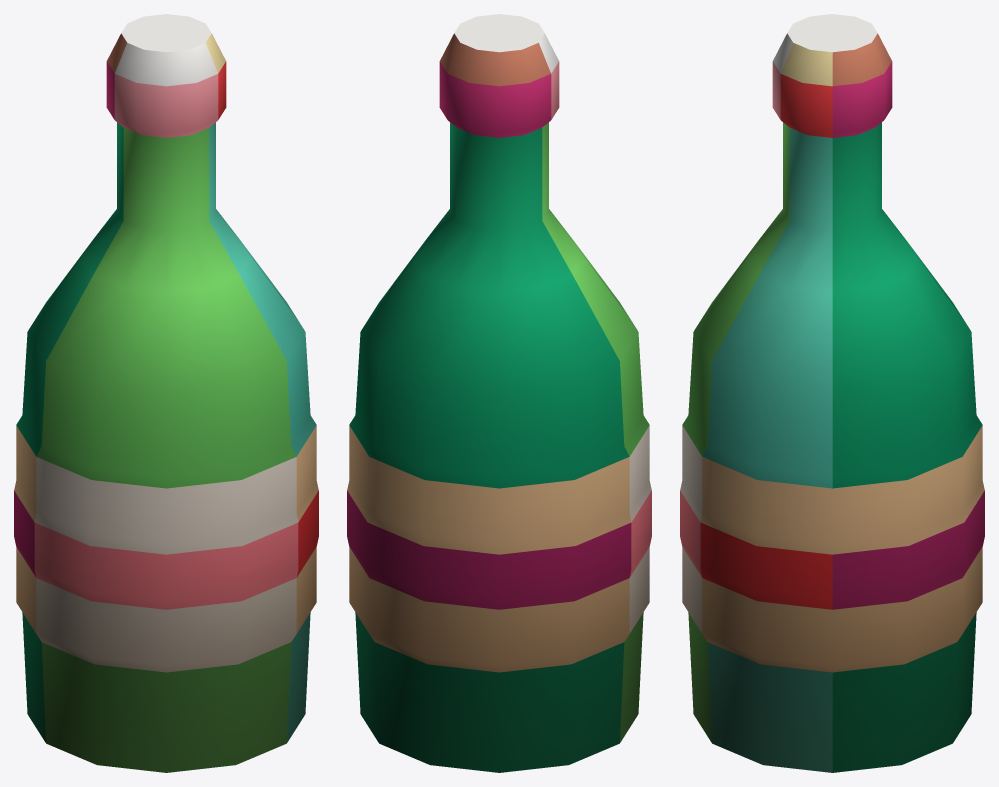
File: drink_wine_bottle.glb
3 views of the same model, side by side, from view 1: azimuth 30°, elevation 25°; view 2: azimuth 150°, elevation 25°; view 3: azimuth 270°, elevation 25° (orthographic).
Parts seen in each view (by area): view 1: Item; view 2: Item; view 3: Item.
Boxes of the visible parts, box(x1,y1,x2,y2) form: Item: box(14, 14, 318, 772); Item: box(347, 14, 651, 772); Item: box(680, 14, 984, 772).
Size of the model in its own units: 0.296 by 0.73 by 0.296.
1 material, 1 textured.
